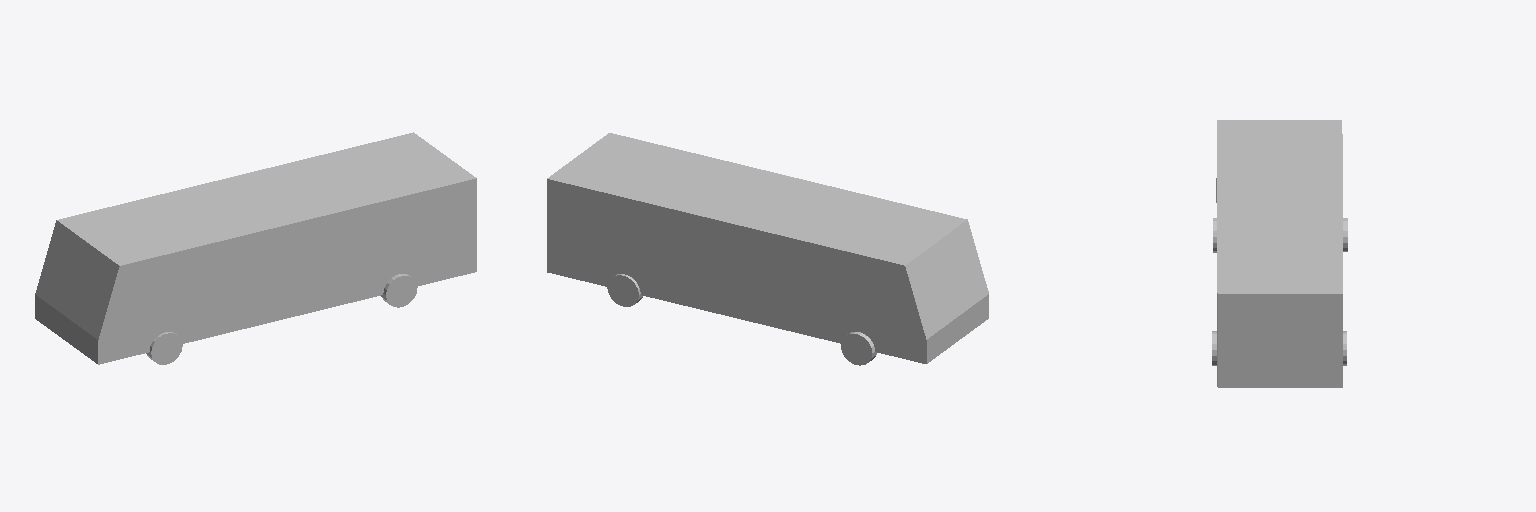
The model's file is car_12.obj.
3 renders of one model, left to right at view 1: azimuth 30°, elevation 25°; view 2: azimuth 150°, elevation 25°; view 3: azimuth 270°, elevation 25°, orthographic.
Visible parts, largest first — view 1: Car_12; view 2: Car_12; view 3: Car_12.
Boxes of the visible parts, x1=… form: Car_12: x1=35, y1=132, x2=476, y2=364; Car_12: x1=547, y1=133, x2=988, y2=365; Car_12: x1=1212, y1=120, x2=1347, y2=387.
Size of the model in its own units: 4.2 by 1.15 by 1.3.